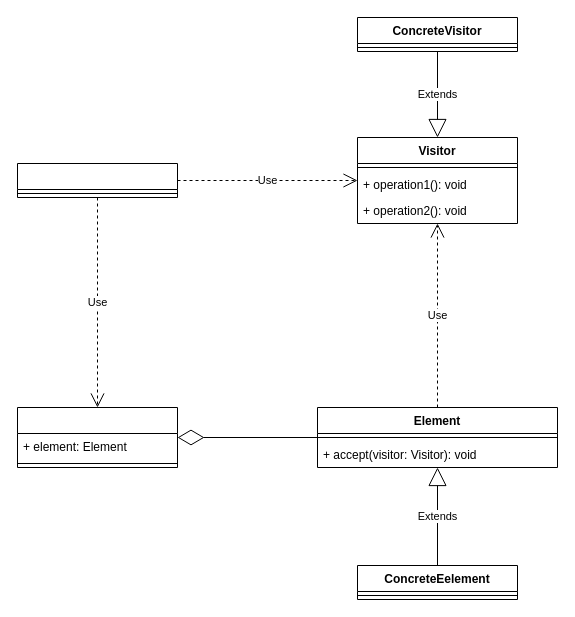
The diagram is 575 pixels wide and 617 high, and some of its shapes have lost their labels. Each missing label, with the box of its shape:
Client: (16, 162, 178, 198)
ObjectStruture: (16, 406, 178, 468)
